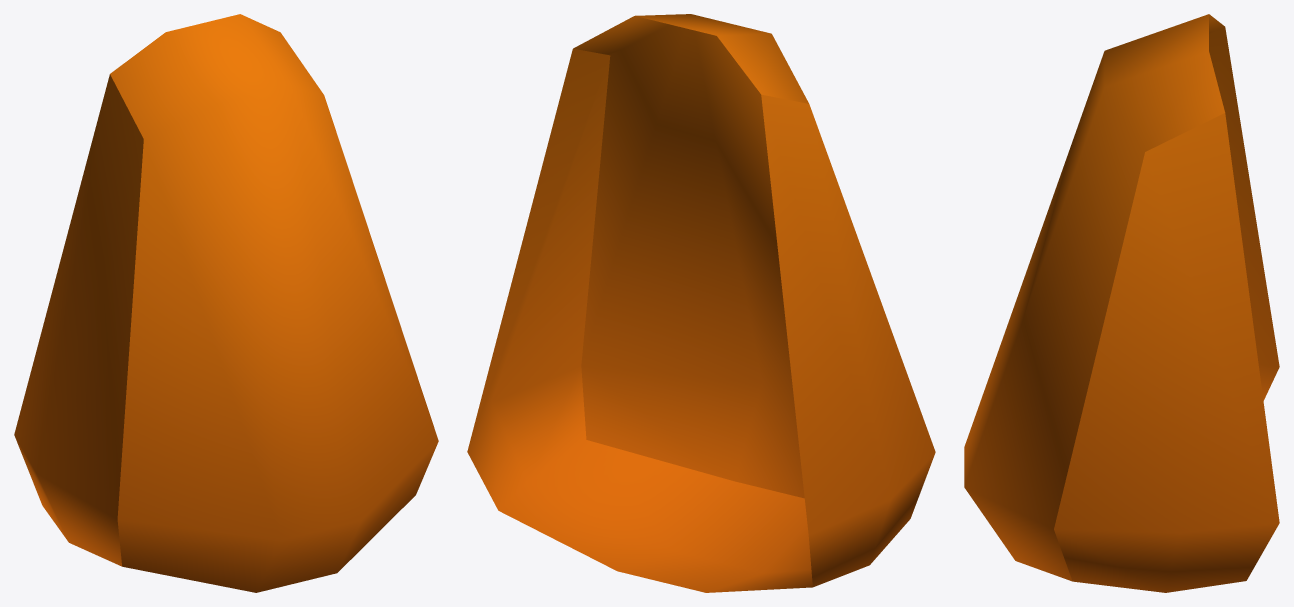
The model's file is Nose_D_01_Brown.fbx.
3 views of the same model, side by side, from view 1: azimuth 30°, elevation 25°; view 2: azimuth 150°, elevation 25°; view 3: azimuth 270°, elevation 25° (orthographic). The views are drawn at different scales.
Visible parts, largest first — view 1: Nose_D_01_Brown; view 2: Nose_D_01_Brown; view 3: Nose_D_01_Brown.
Boxes of the visible parts, <box> form: Nose_D_01_Brown: <box>14,14,438,592</box>; Nose_D_01_Brown: <box>467,14,935,592</box>; Nose_D_01_Brown: <box>964,14,1279,592</box>.
Bounding box in the file's own units: 13.59 × 18.54 × 9.94.
